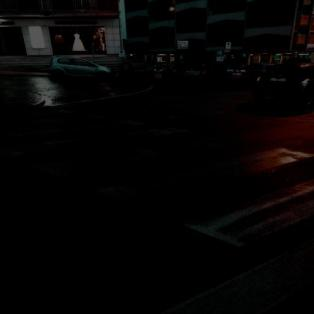Paso de Cebra: (26, 128, 314, 215)
